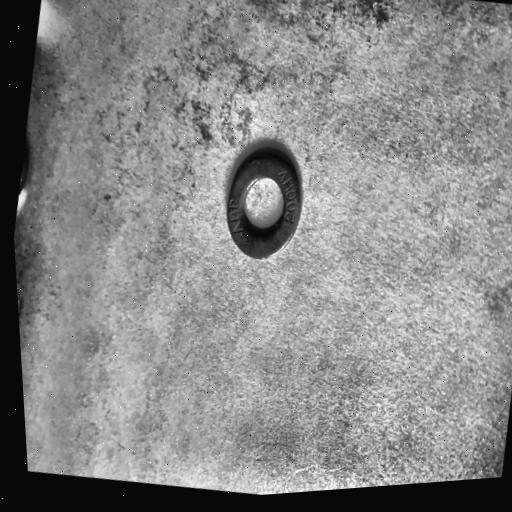Bolt: (244, 177, 285, 231)
Washer: (224, 140, 303, 260)
